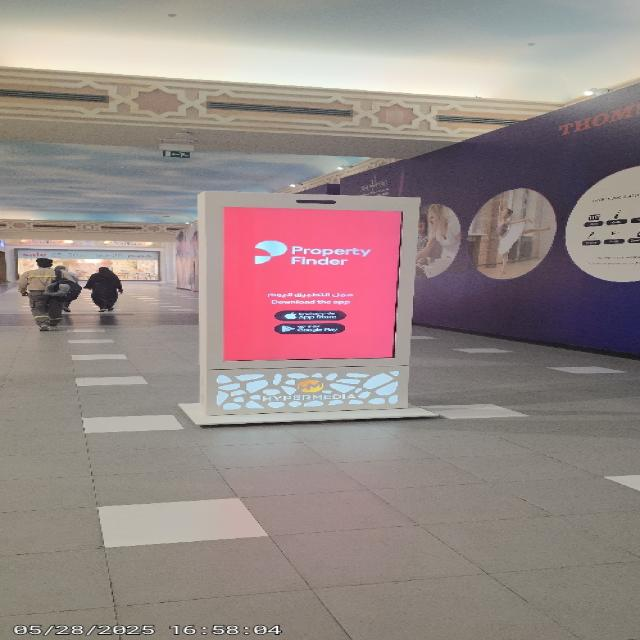mupi: (200, 191, 419, 412)
